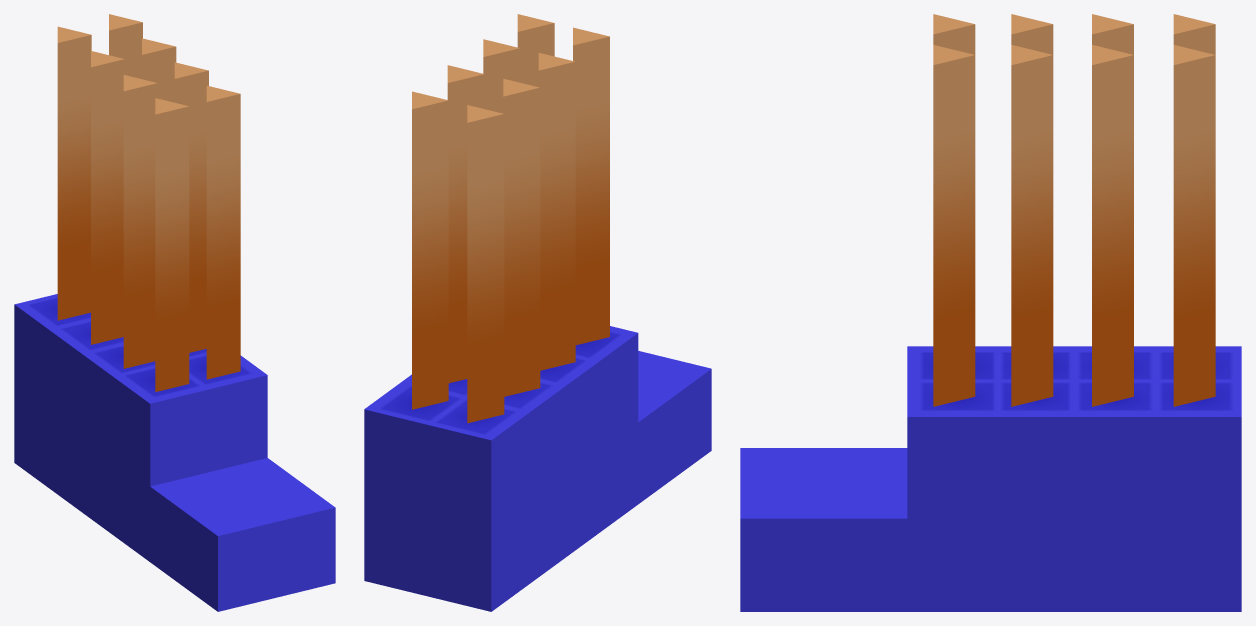
The model's file is PowerConnectors2.fbx.
3 views of the same model, side by side, from view 1: azimuth 30°, elevation 25°; view 2: azimuth 150°, elevation 25°; view 3: azimuth 270°, elevation 25° (orthographic). The views are drawn at different scales.
Visible parts, largest first — view 1: PowerConnectors2; view 2: PowerConnectors2; view 3: PowerConnectors2.
Boxes of the visible parts, bbox=[...] form: PowerConnectors2: bbox=[14, 14, 335, 611]; PowerConnectors2: bbox=[364, 14, 711, 611]; PowerConnectors2: bbox=[740, 14, 1241, 611].
Size of the model in its own units: 0.5 by 1.77 by 1.5.
